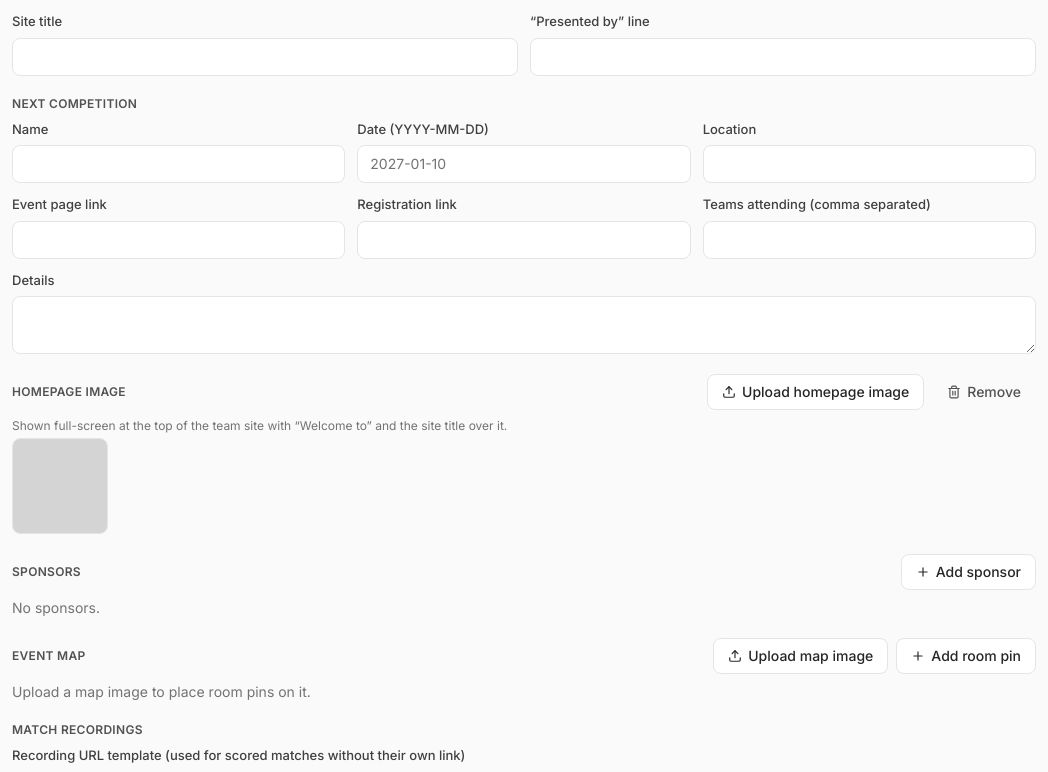
it: SiteConfigEditor › uploads a homepage image, stores only its key, previews it and can remove it
Earlier steps of the test are not shown.
Click the button "Remove" at (984, 392), box x1=932 y1=374 x2=1036 y2=410
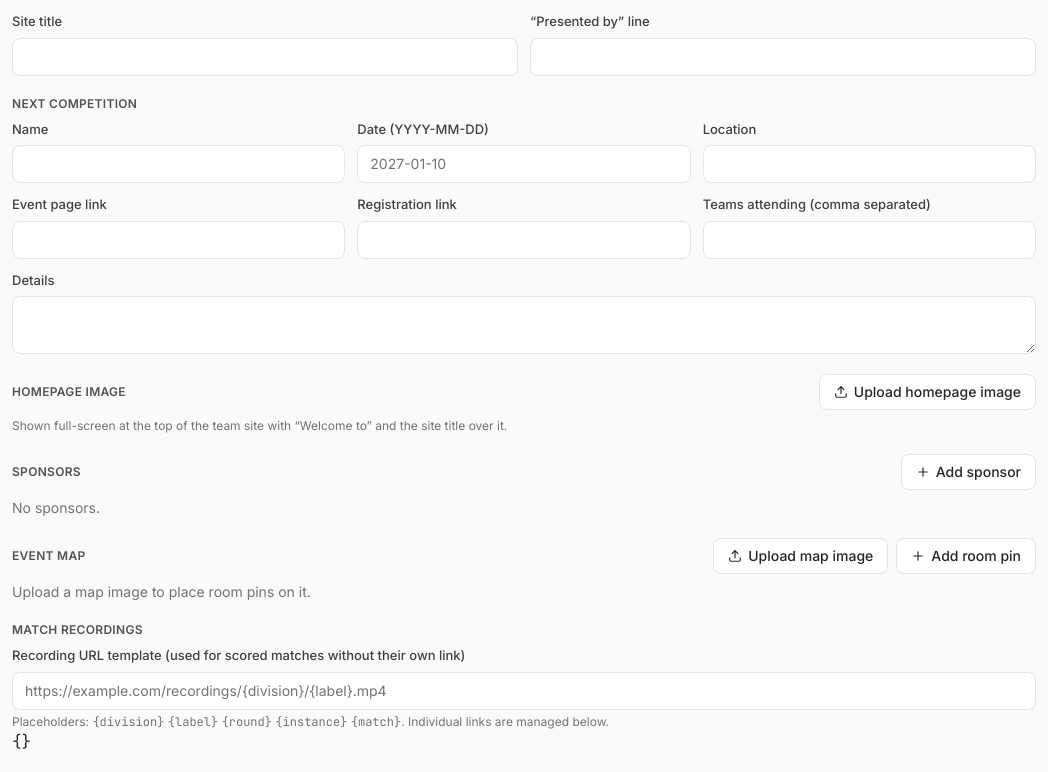
Now the picture with test id "hero-preview" is gone
